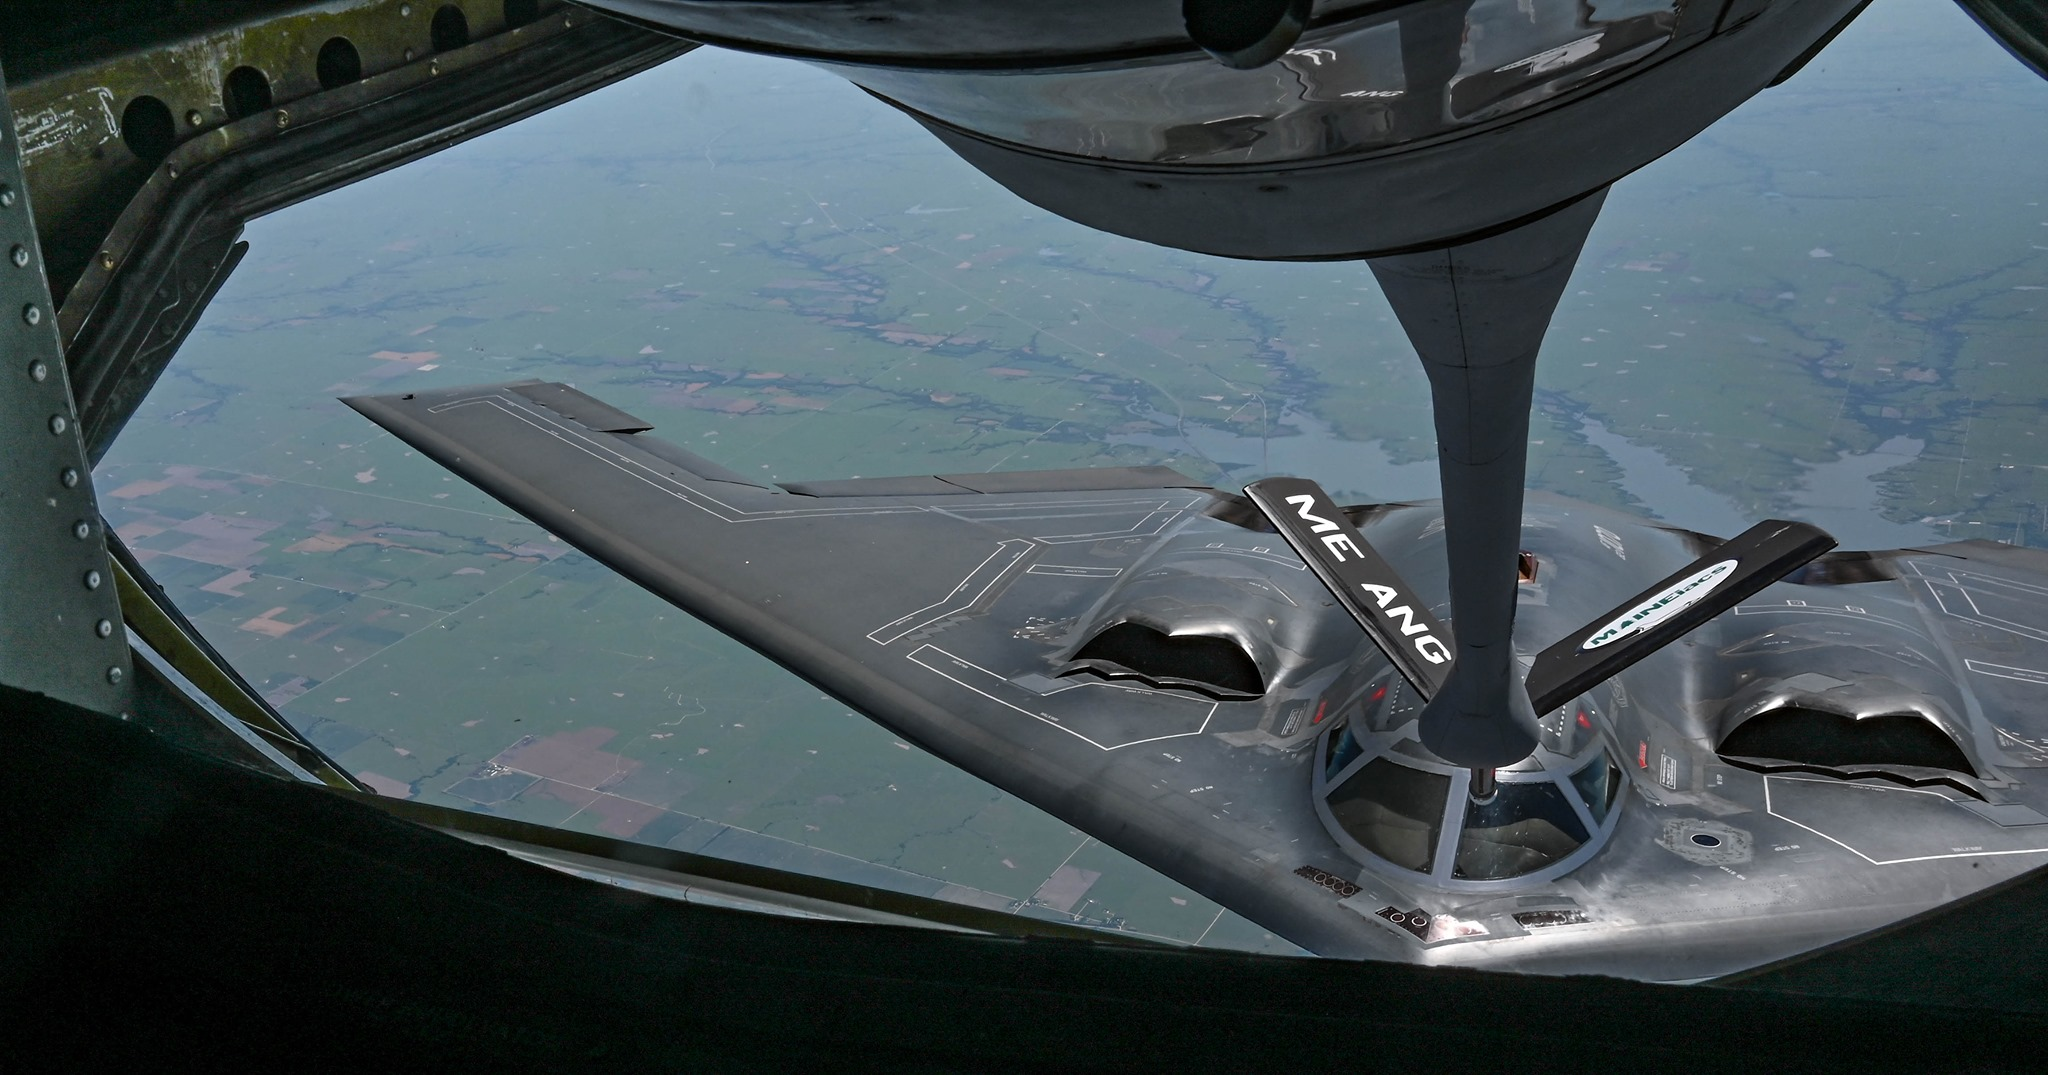B2: (335, 376, 2048, 982)
